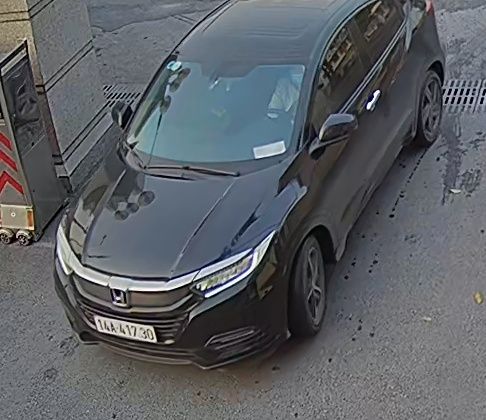vehicle plate: (92, 311, 159, 348)
